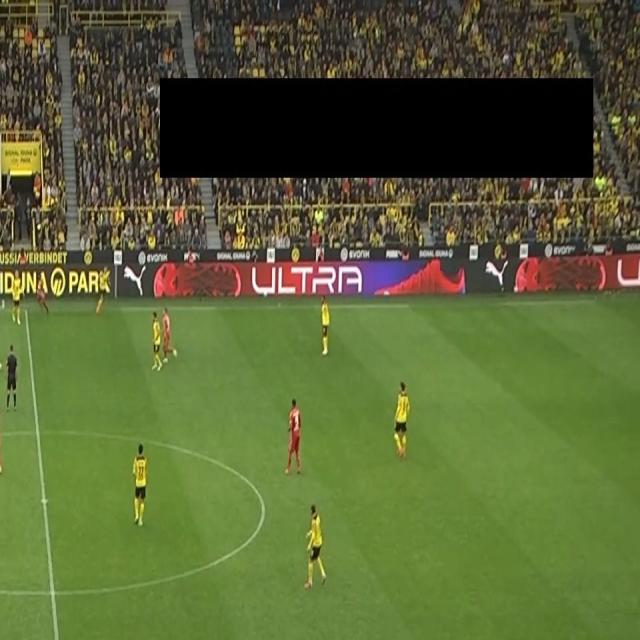ball: (0, 359, 3, 371)
